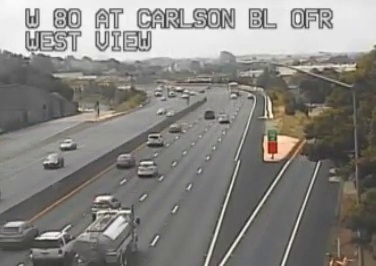car: (31, 231, 75, 264), (1, 221, 38, 248), (136, 161, 157, 177), (116, 153, 133, 169), (147, 133, 162, 147)
tank-truck: (75, 205, 136, 266)
